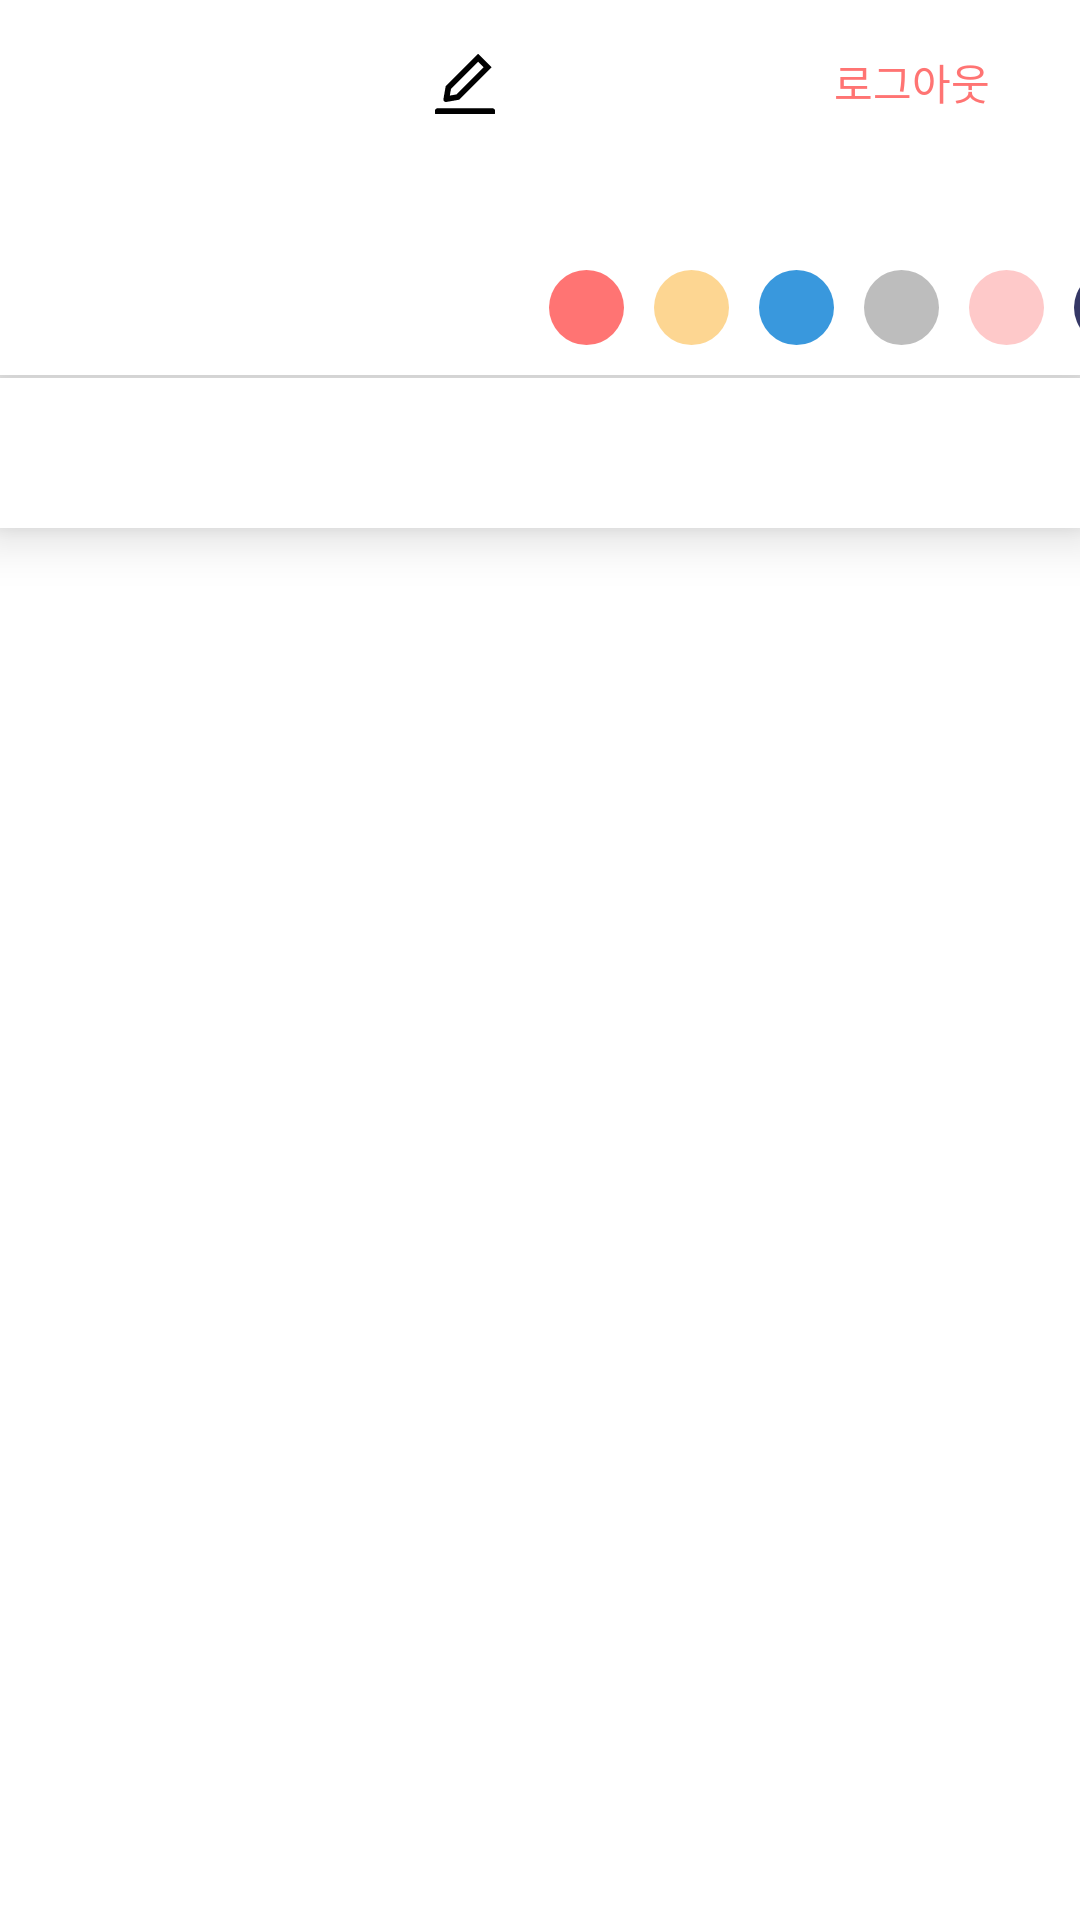

Where to tap for icons on this 1080×1920 app screen, as (x=x, y=y):
modify name: (x=465, y=84)
